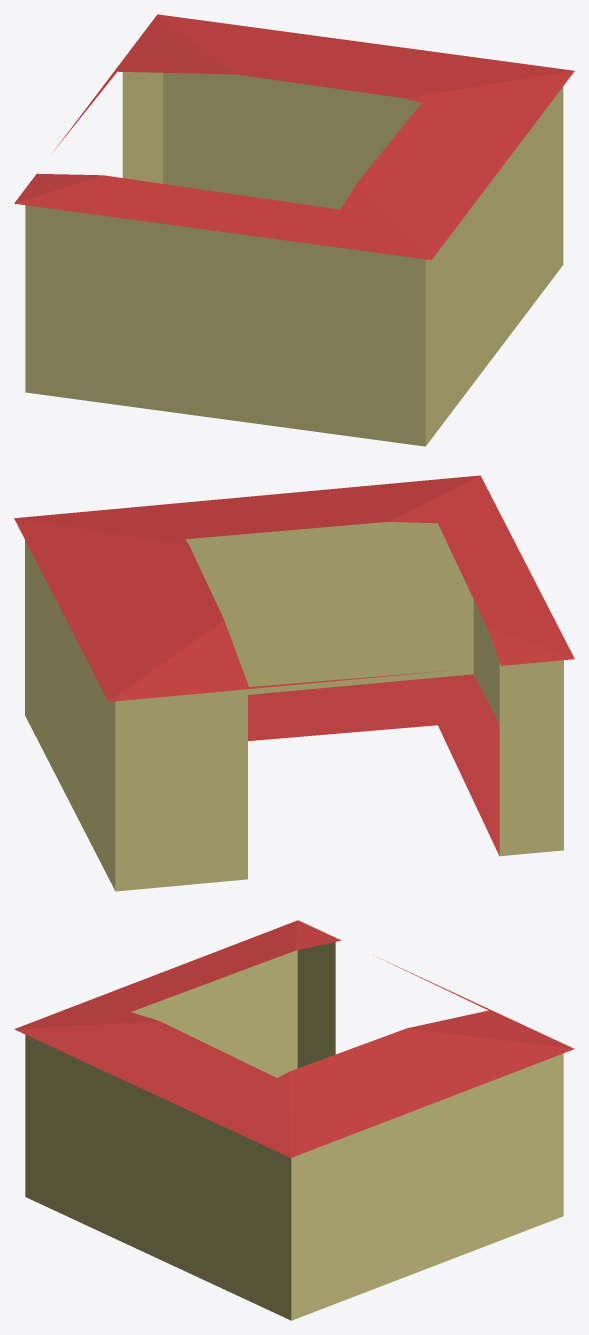
3 renders of one model, top to bottom at view 1: azimuth 30°, elevation 25°; view 2: azimuth 150°, elevation 25°; view 3: azimuth 270°, elevation 25°, orthographic. The views are drawn at different scales.
Bounding box in the file's own units: 17.62 × 17.56 × 6.24.
